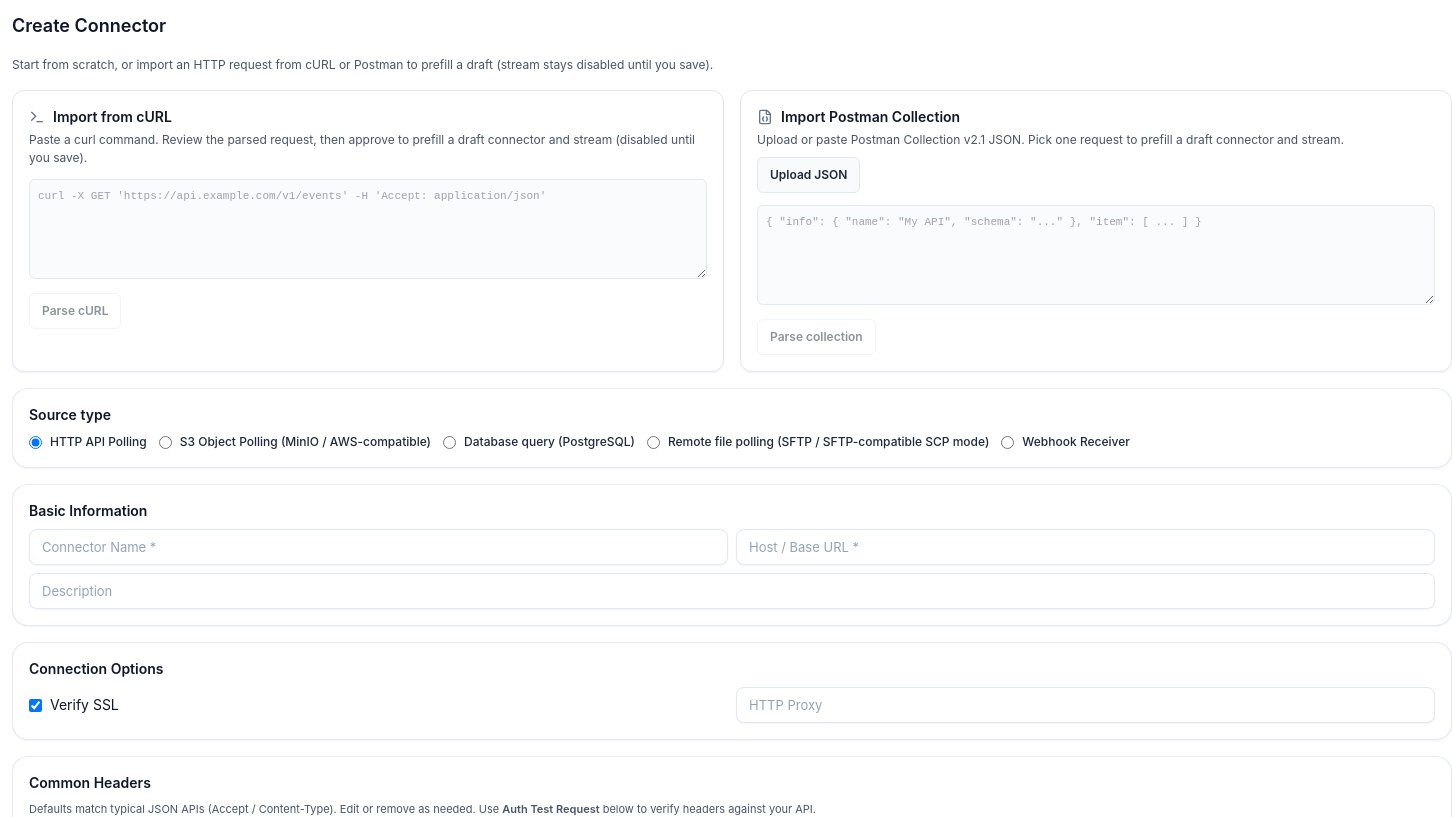
NewConnectorWizardPage › shows remote file source option
Click the radio button labelled "Remote file polling (SFTP / SFTP-compatible SCP mode)": (653,442) [647,436,660,448]
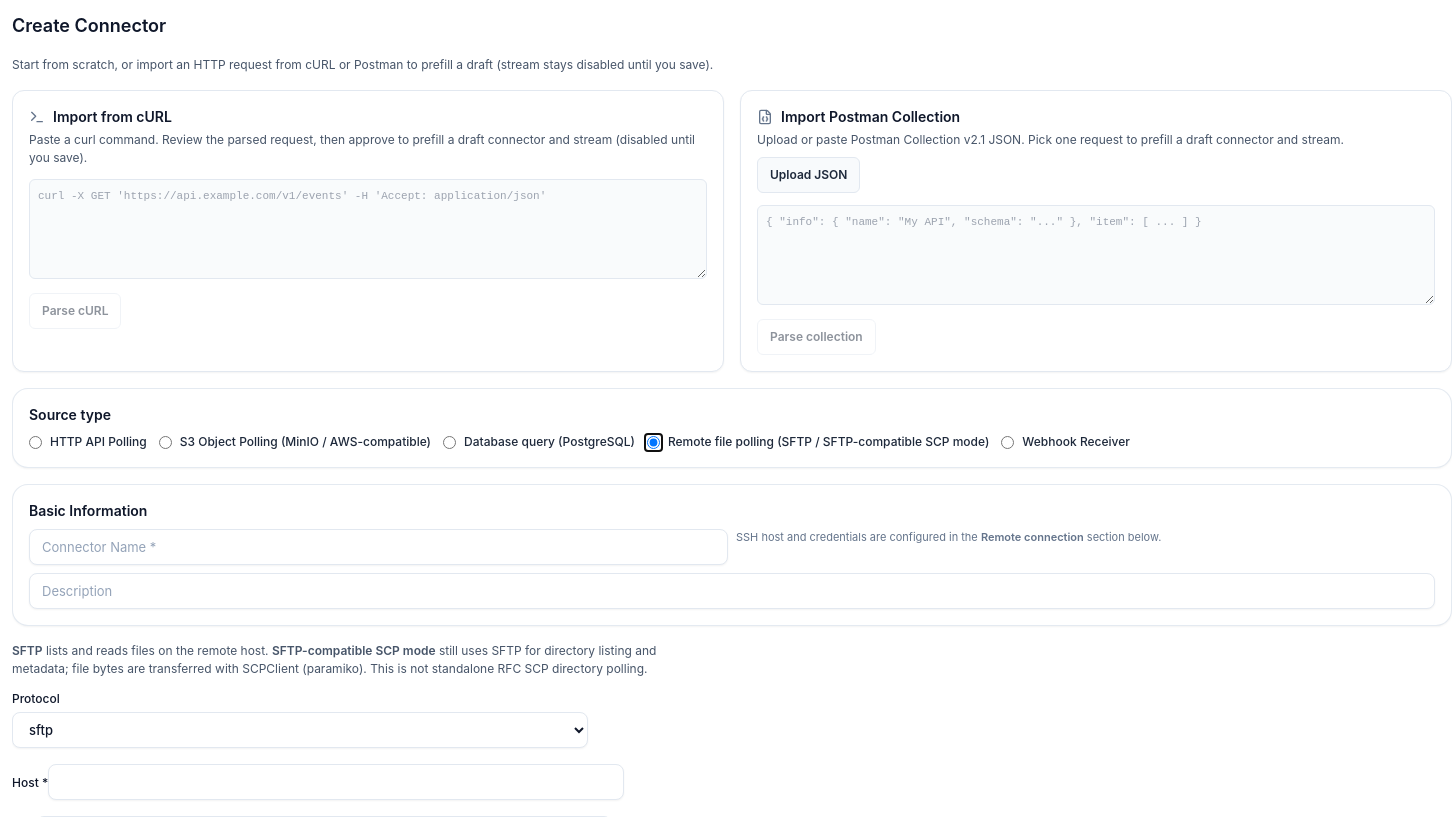
Expected: the dropdown labelled "Protocol" is shown, [12,712,588,748]
Expected: the field labelled "Host *" is shown, [48,764,624,800]
